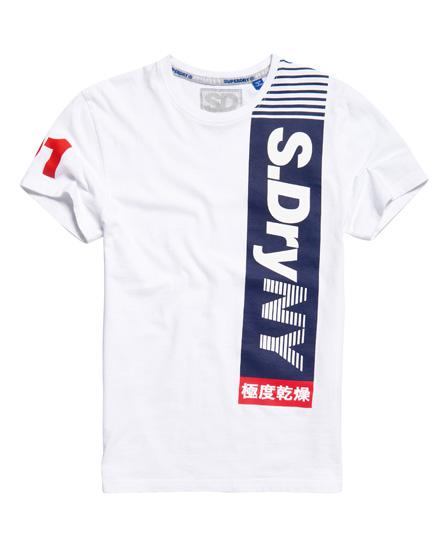teeshirt: (22, 49, 433, 497)
